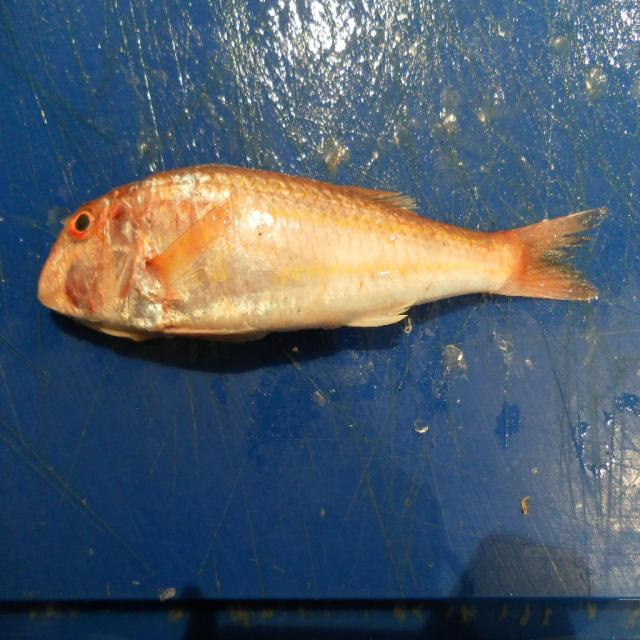Striped-Red-Mullet-tekir-: (36, 166, 608, 344)
